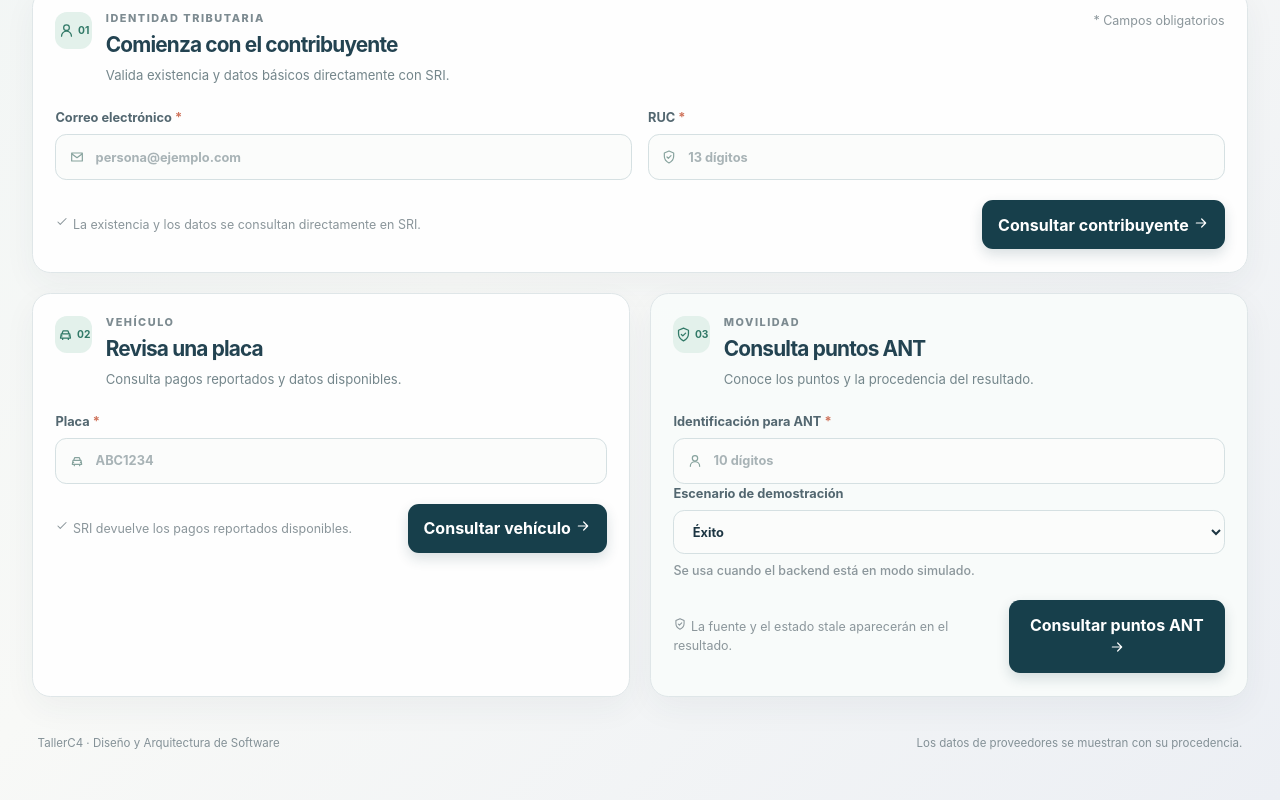
Test: TallerC4 app shell › shows an accessible loading state while ANT is pending
Later steps or results of the test are not shown.
(page scrolled)
In the field labelled "Identificación para ANT *": (949, 461) [673,438,1225,484], type "0000000011"
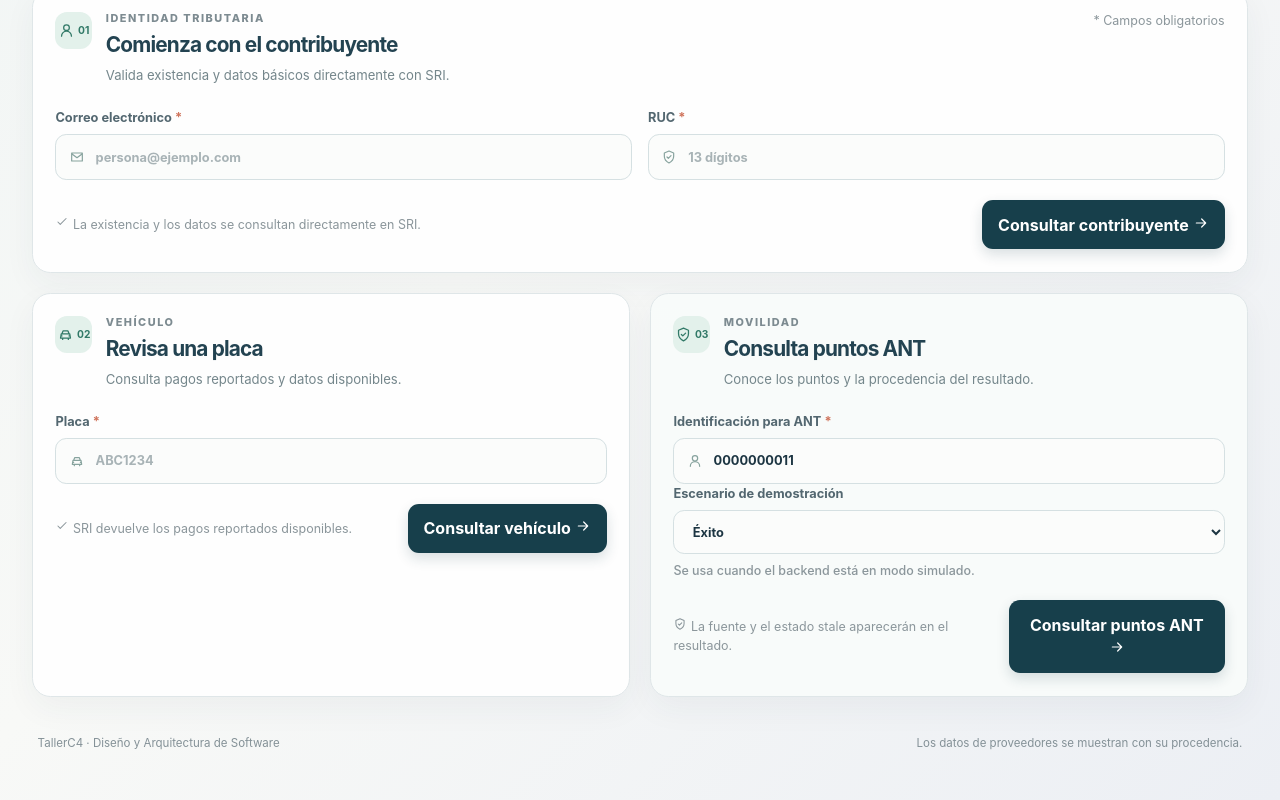
Click the button "Consultar puntos ANT": (1117, 637) [1009,600,1225,673]
(page scrolled)
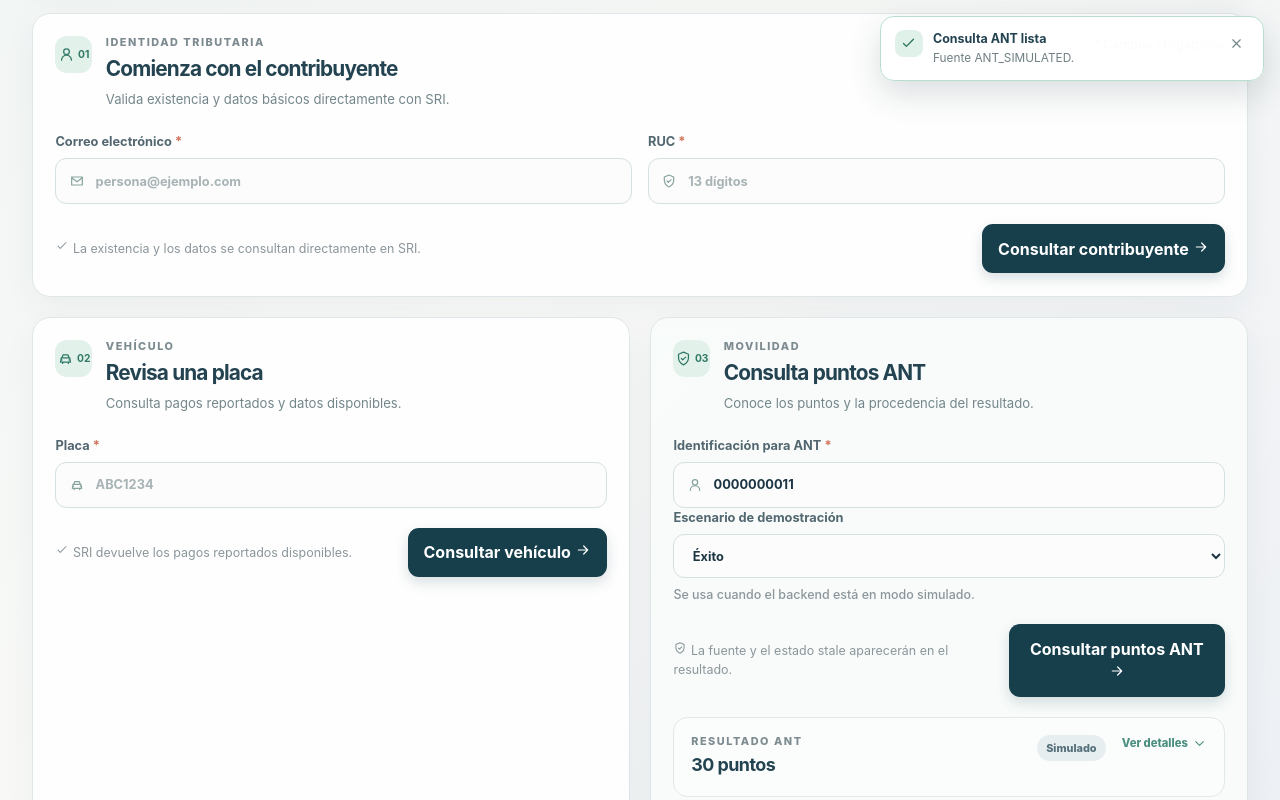
Expected: the text "consultando datos" is shown, [673,642,993,680]
Now the heading "30 puntos" is shown, box [691,754,775,775]
